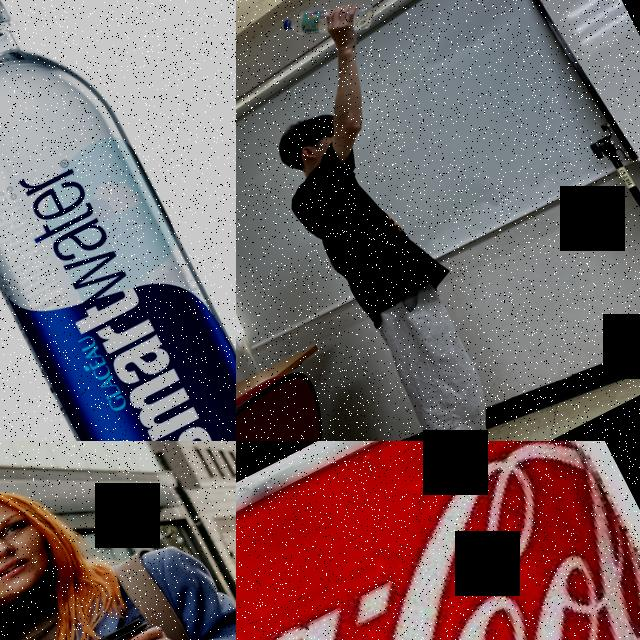bottle: (0, 0, 236, 441), (281, 0, 382, 63)
can: (236, 441, 640, 640)
cup: (72, 609, 185, 640)
